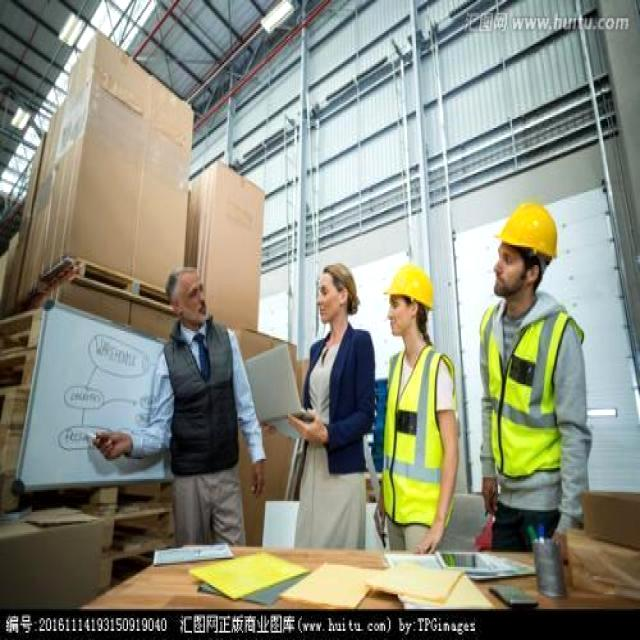hard_hat: (495, 203, 557, 260), (387, 263, 433, 307)
no_head_wear: (323, 265, 360, 315), (164, 267, 193, 300)
person: (92, 267, 265, 543), (480, 205, 590, 561), (289, 263, 374, 547), (375, 263, 457, 552)
